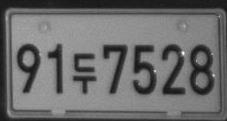1: (45, 42, 71, 95)
2: (161, 43, 187, 96)
5: (132, 44, 157, 94)
7: (102, 43, 128, 95)
8: (188, 43, 214, 95)
9: (16, 43, 41, 93)
두: (71, 52, 97, 95)
